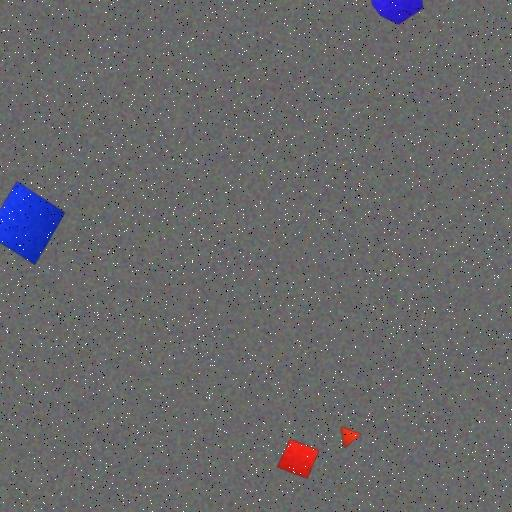BLUE_SQUARE: (0, 180, 66, 266)
RED_SQUARE: (276, 438, 320, 480)
